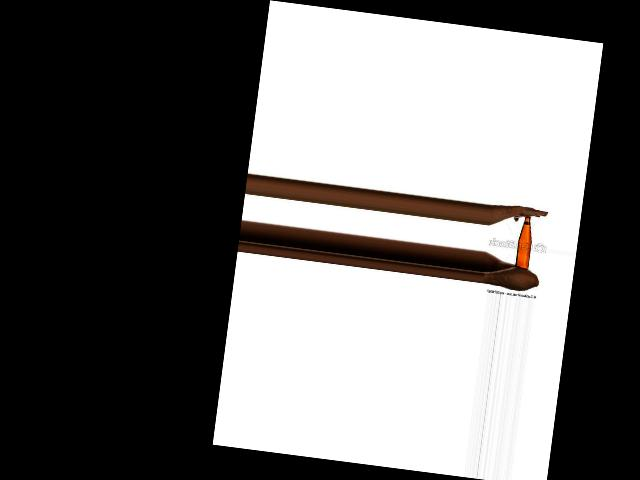beer: (514, 214, 534, 268)
